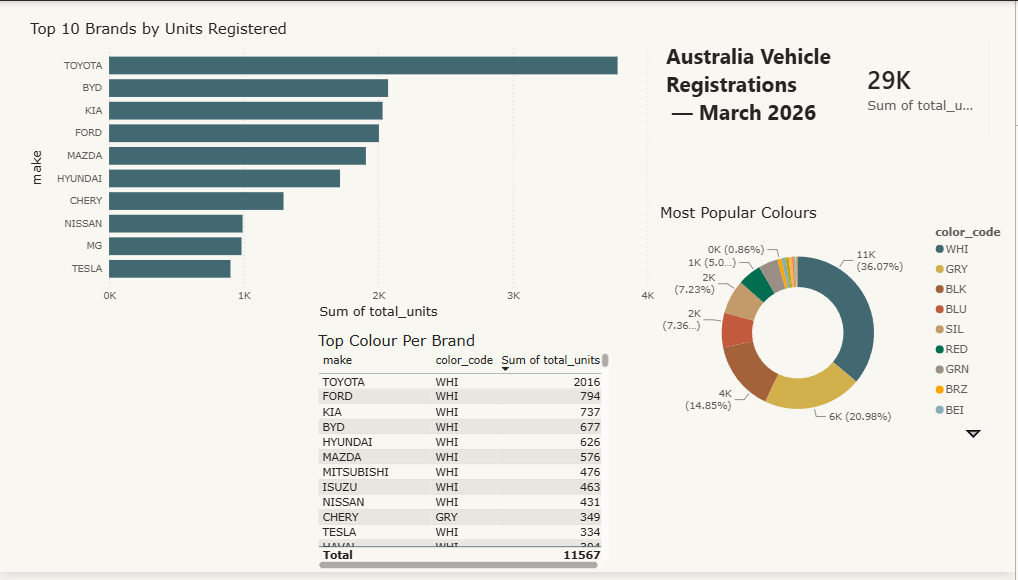

This screenshot's page, from the dashboard's own definition file:
{"tool":"powerbi","page":{"name":"Page 1","canvas":[1280,720],"ordinal":0},"visuals":[{"type":"clusteredBarChart","title":"Top 10 Brands by Units Registered","fields":{"Category":["top_makes.make"],"Y":["Sum(top_makes.total_units)"]},"box":[34,22.7,795.6,381.7],"z":0},{"type":"donutChart","title":"Most Popular Colours","fields":{"Category":["colour_trends.color_code"],"Y":["Sum(colour_trends.total_units)"]},"box":[827.7,255.1,451.7,302.4],"z":1},{"type":"tableEx","title":"Top Colour Per Brand","fields":{"Values":["top_make_colour.make","top_make_colour.color_code","Sum(top_make_colour.total_units)"]},"box":[396.9,415.8,376.1,304.3],"z":2},{"type":"cardVisual","fields":{"Data":["Sum(colour_trends.total_units)"]},"box":[1063.9,22.7,200.3,170.1],"z":3},{"type":"textbox","box":[835.3,45.4,228.7,126.6],"z":4}]}

Visuals, with their boxes in screenshot pixels (x1, y1, x2, y2), scaled from the page's 1280x720 canvas onto the 1018x580 screenshot:
"Top 10 Brands by Units Registered" clusteredBarChart: pyautogui.locateOnScreen(27, 18, 660, 326)
"Most Popular Colours" donutChart: pyautogui.locateOnScreen(658, 205, 1017, 449)
"Top Colour Per Brand" tableEx: pyautogui.locateOnScreen(316, 335, 615, 579)
cardVisual - Sum(colour_trends.total_units): pyautogui.locateOnScreen(846, 18, 1005, 155)
textbox: pyautogui.locateOnScreen(664, 37, 846, 139)
